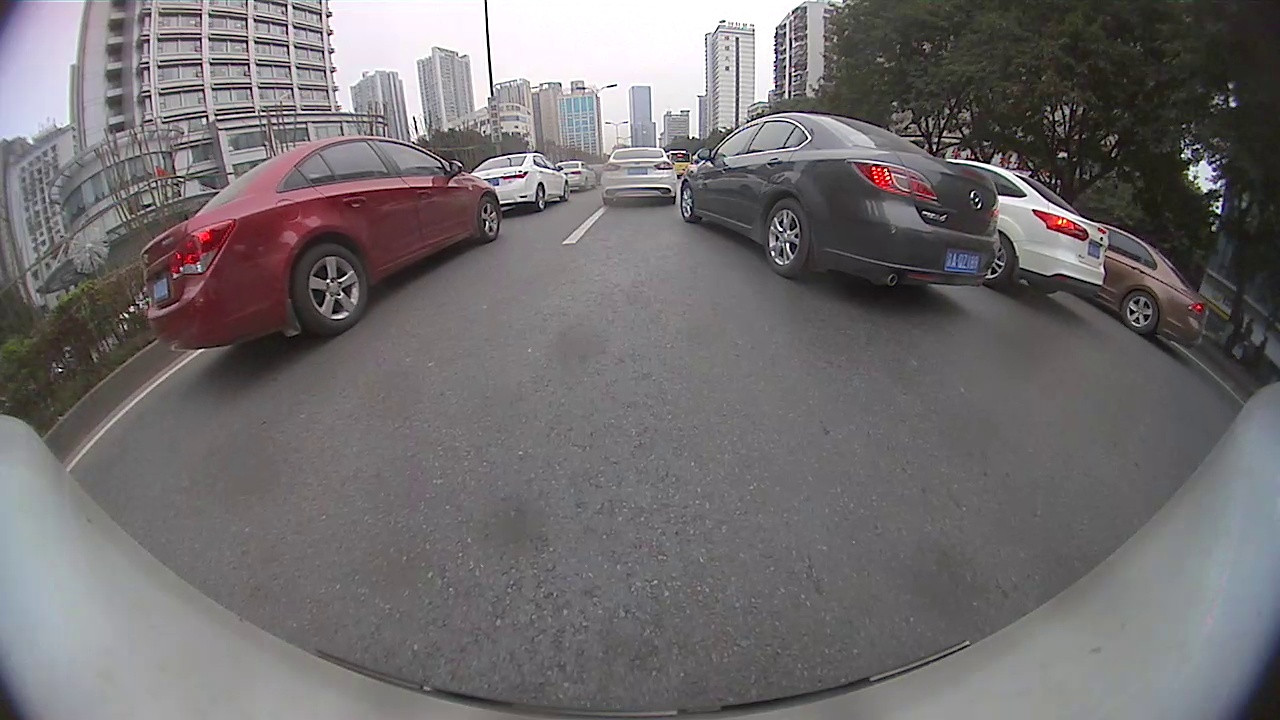bus: (664, 147, 695, 180)
car: (142, 133, 501, 352), (680, 111, 1000, 291), (941, 158, 1112, 296), (1079, 220, 1212, 348), (473, 152, 571, 214), (597, 144, 683, 206), (555, 158, 597, 193)
front: (477, 197, 503, 243), (678, 184, 696, 222), (561, 182, 572, 202)
rear: (293, 243, 366, 336), (764, 197, 812, 276), (978, 230, 1017, 288), (1122, 286, 1161, 332), (534, 185, 548, 213)
